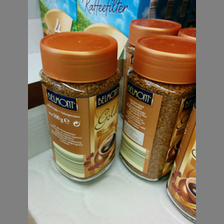coffee: (38, 31, 121, 184), (116, 34, 195, 182)
